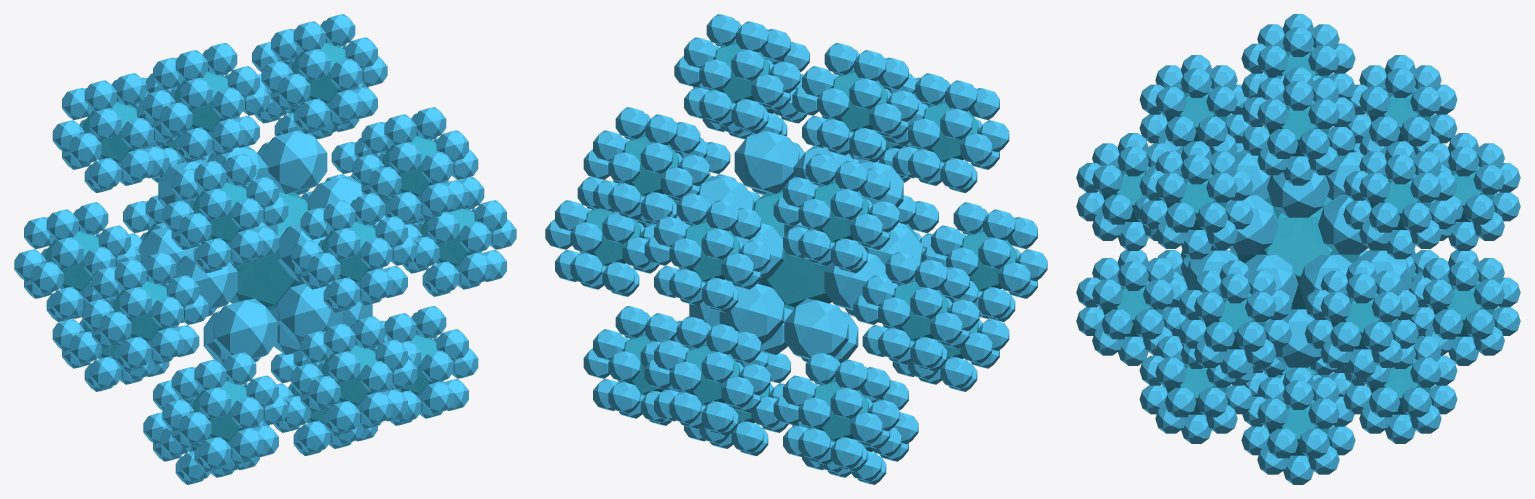
File: fractalicosidodecahedron2.glb
3 views of the same model, side by side, from view 1: azimuth 30°, elevation 25°; view 2: azimuth 150°, elevation 25°; view 3: azimuth 270°, elevation 25° (orthographic). The views are drawn at different scales.
Size of the model in its own units: 11.02 by 11.02 by 11.02.
